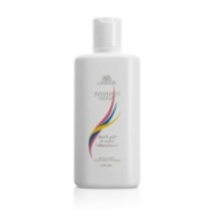book: (69, 13, 146, 193)
